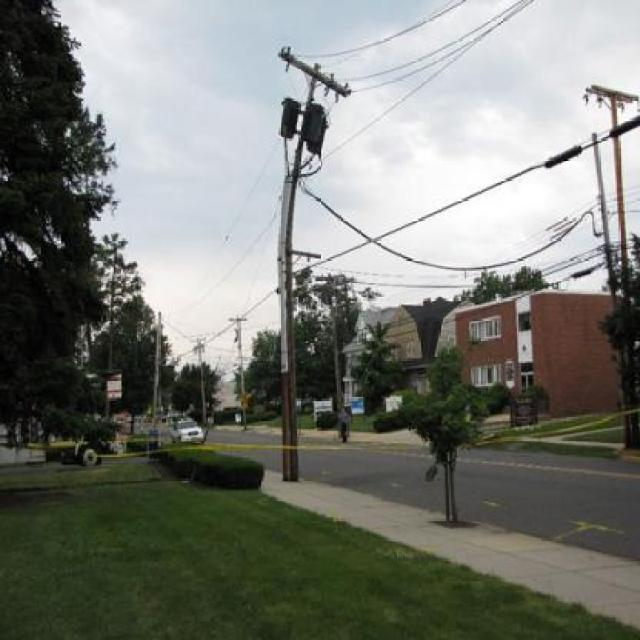light_pole: (263, 39, 359, 474)
